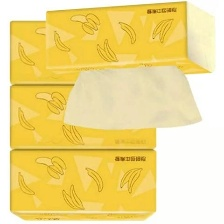tissue: (39, 0, 223, 137), (2, 144, 162, 224), (2, 81, 162, 156), (2, 16, 162, 89)
